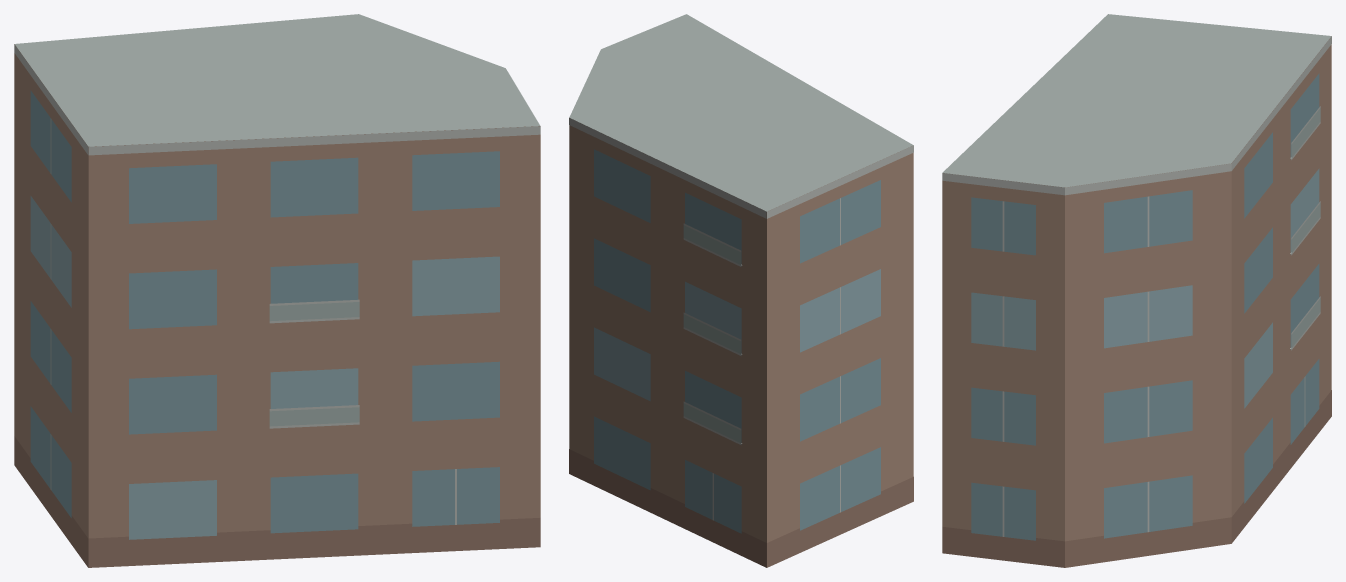
Rendered from survey-upis-32736416.glb.
3 renders of one model, left to right at view 1: azimuth 30°, elevation 25°; view 2: azimuth 150°, elevation 25°; view 3: azimuth 270°, elevation 25°, orthographic. The views are drawn at different scales.
Parts seen in each view (by area): view 1: survey-upis-32736416.tmp; view 2: survey-upis-32736416.tmp; view 3: survey-upis-32736416.tmp.
Part boxes in pixels (x1,y1,x2,y2): survey-upis-32736416.tmp: (14, 14, 540, 567); survey-upis-32736416.tmp: (569, 14, 913, 567); survey-upis-32736416.tmp: (942, 14, 1331, 567).
Size of the model in its own units: 11.55 by 11.8 by 10.96.
